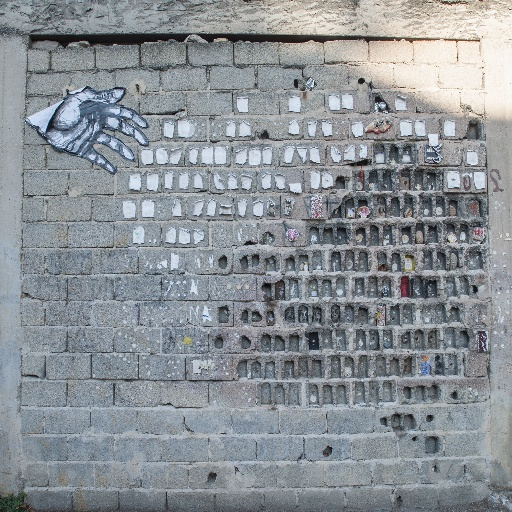hand: (39, 83, 143, 158)
